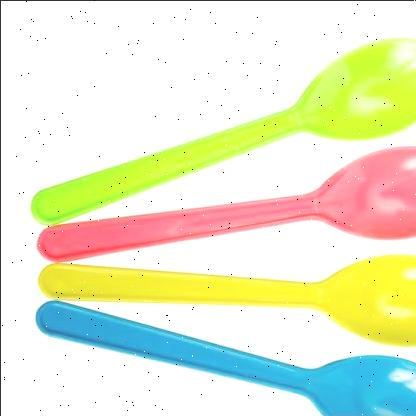Others: (28, 26, 416, 416)
